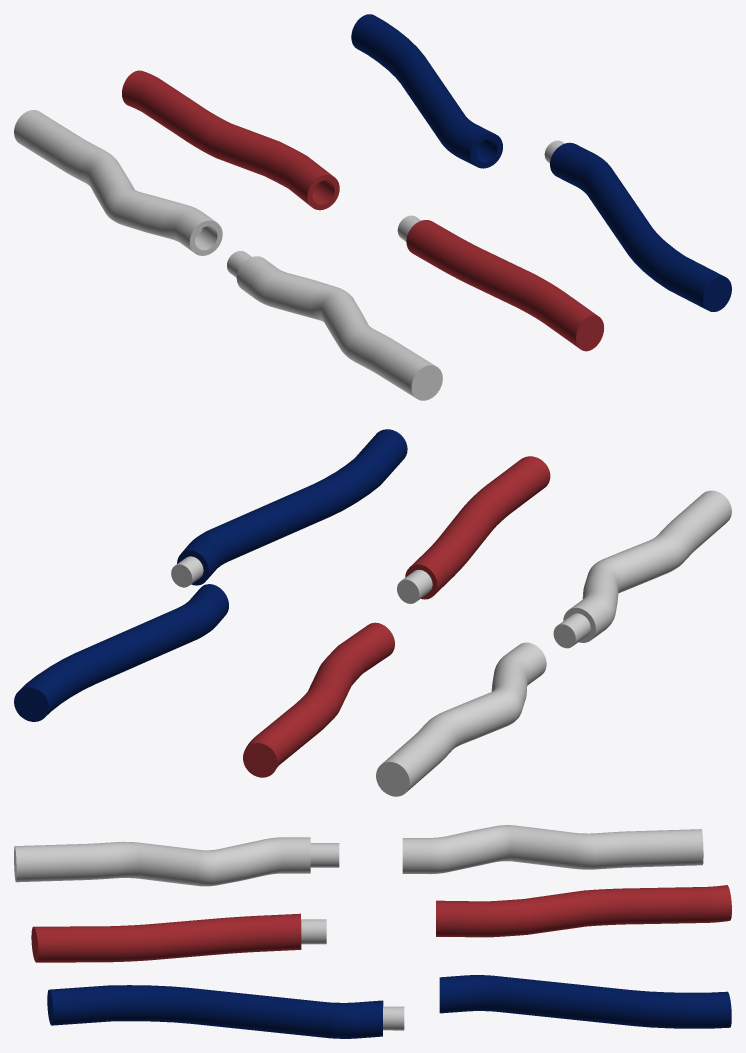
File: sadecekablo.fbx
3 renders of one model, top to bottom at view 1: azimuth 30°, elevation 25°; view 2: azimuth 150°, elevation 25°; view 3: azimuth 270°, elevation 25°, orthographic. The views are drawn at different scales.
Parts seen in each view (by area): view 1: Circle.006, Circle.004, Circle.003, Circle.002, Circle.005, Circle.007; view 2: Circle.002, Circle.007, Circle.004, Circle.003, Circle.006, Circle.005, Circle.008, Circle.009, Circle.001; view 3: Circle.002, Circle.004, Circle.003, Circle.006, Circle.007, Circle.005, Circle.008, Circle.009, Circle.001.
Part boxes in pixels (x1,y1,x2,y2): Circle.006: [122, 70, 339, 210]; Circle.004: [14, 110, 222, 255]; Circle.003: [236, 256, 442, 400]; Circle.002: [550, 142, 731, 311]; Circle.005: [406, 220, 603, 351]; Circle.007: [351, 14, 502, 168]; Circle.002: [177, 429, 407, 585]; Circle.007: [14, 584, 228, 721]; Circle.004: [376, 642, 546, 796]; Circle.003: [563, 490, 731, 642]; Circle.006: [243, 622, 394, 777]; Circle.005: [405, 456, 550, 599]; Circle.008: [553, 613, 590, 648]; Circle.009: [397, 570, 432, 603]; Circle.001: [171, 556, 203, 587]; Circle.002: [47, 985, 383, 1038]; Circle.004: [402, 825, 703, 874]; Circle.003: [14, 837, 310, 886]; Circle.006: [436, 885, 731, 937]; Circle.007: [439, 975, 731, 1028]; Circle.005: [31, 913, 301, 962]; Circle.008: [310, 843, 339, 867]; Circle.009: [301, 919, 326, 944]; Circle.001: [383, 1006, 404, 1030].
Size of the model in its own units: 302 by 24.05 by 475.
